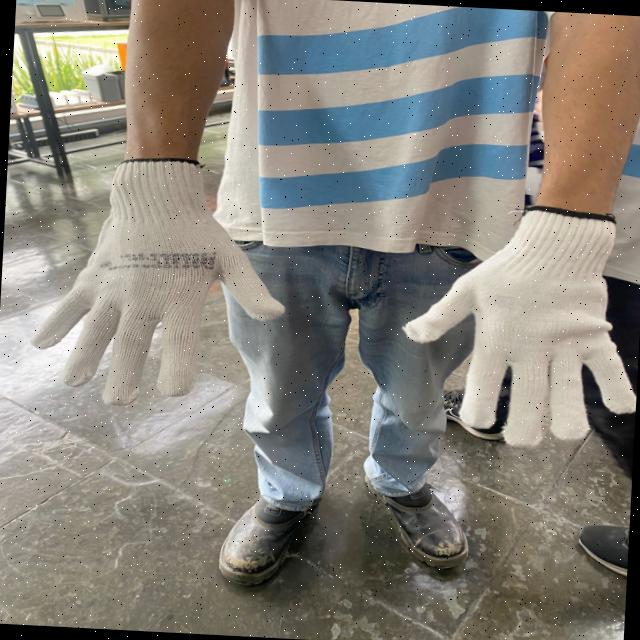BOTA: (196, 462, 337, 587), (354, 446, 482, 570)
LUVA: (25, 155, 290, 411), (394, 199, 635, 451)
SEM BOTA: (434, 386, 511, 443), (573, 520, 629, 581)
